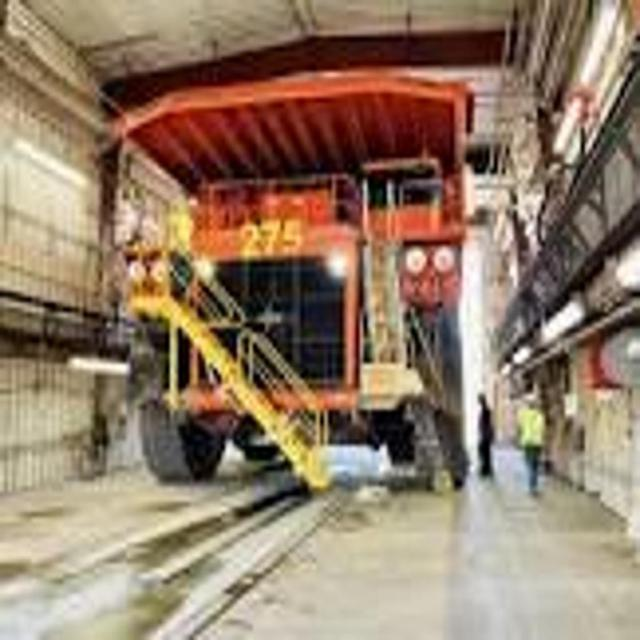dump_truck: (110, 73, 478, 507)
